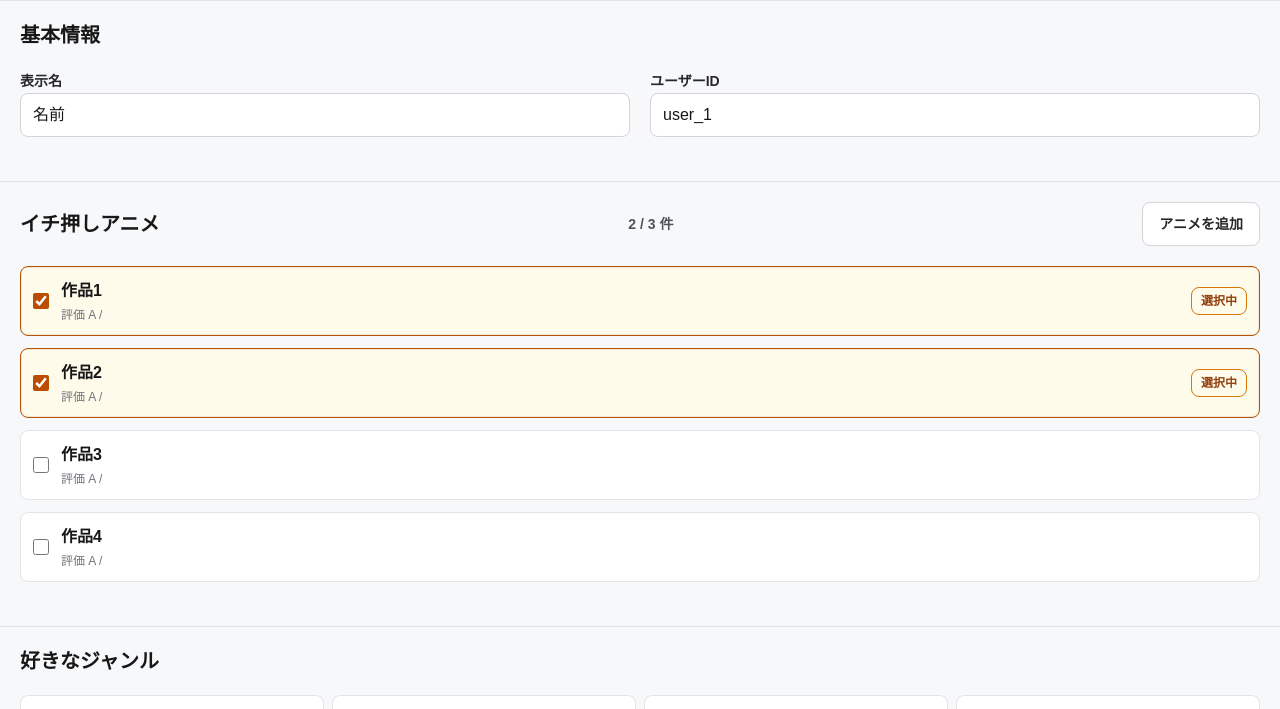
profile form › prevents a fourth selection and updates chips immediately
Click the checkbox labelled "作品3 評価 A /": click(41, 465) [33,457,49,473]
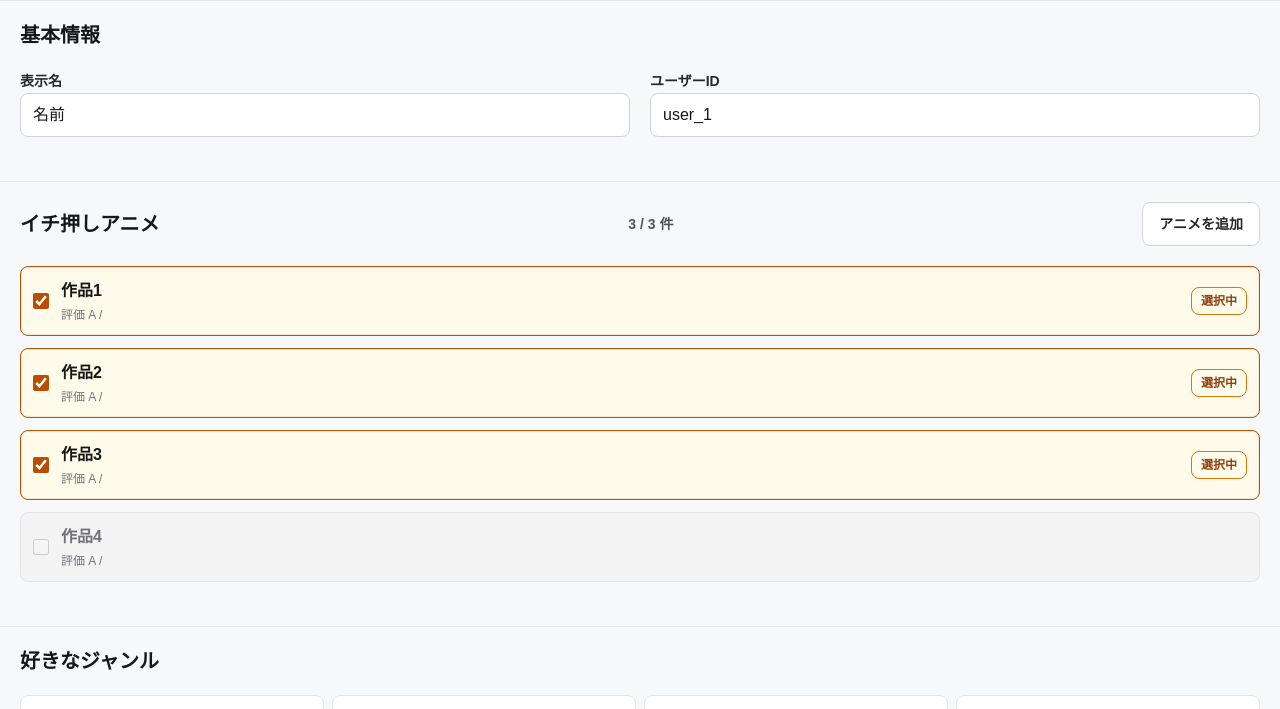
Now the checkbox labelled "作品4 評価 A /" is disabled, box [33,539,49,555]
Now the text "選択中" is shown 3 times, box [1191,287,1247,315]; [1191,369,1247,397]; [1191,451,1247,479]
Click the checkbox labelled "作品1 評価 A / 選択中": click(41, 301) [33,293,49,309]
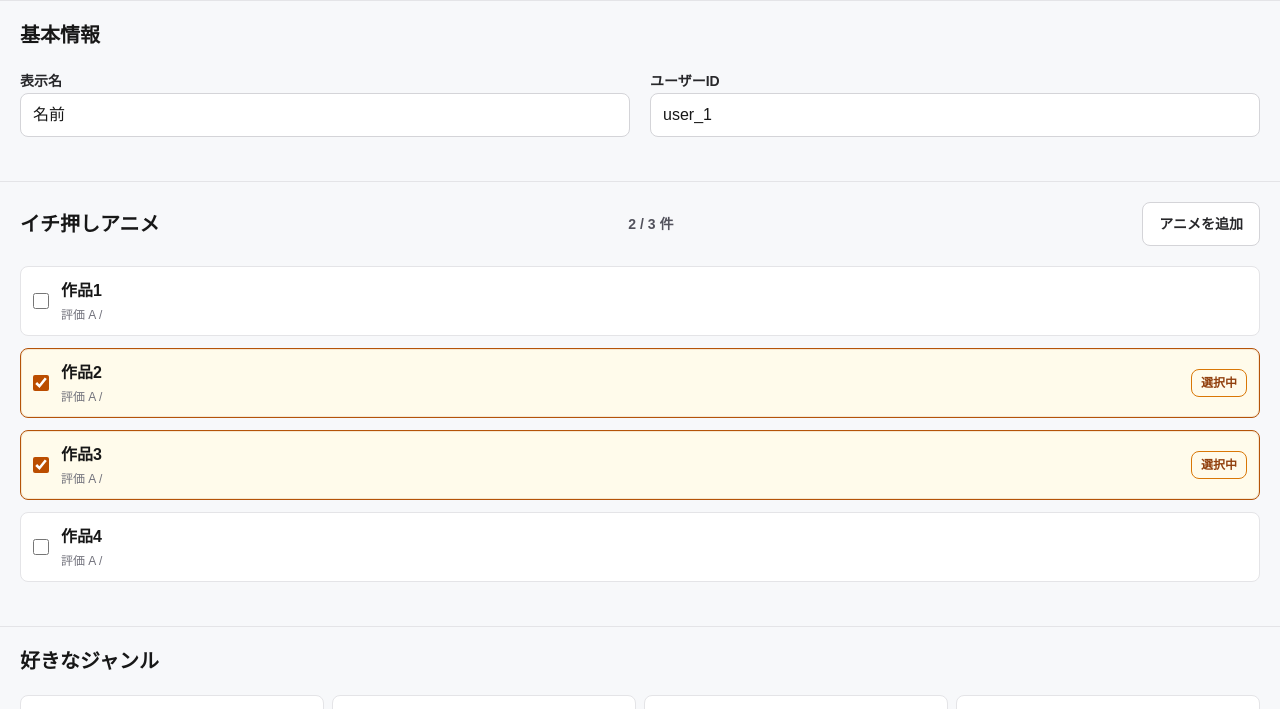
Expected: the text "選択中" is shown 2 times, [1191,369,1247,397]; [1191,451,1247,479]
Now the checkbox labelled "作品4 評価 A /" is enabled, box [33,539,49,555]
